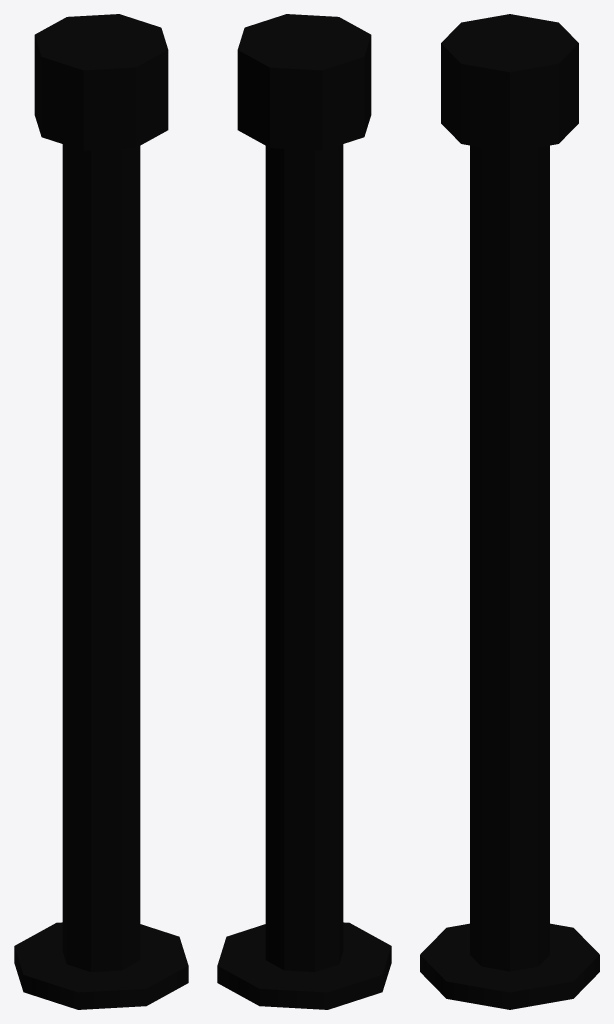
Rendered from Char_PG_Syringe_Piston.FBX.
The picture shows the model from 3 angles, left to right: view 1: azimuth 30°, elevation 25°; view 2: azimuth 150°, elevation 25°; view 3: azimuth 270°, elevation 25°; orthographic projection.
Visible parts, largest first — view 1: Cylinder008; view 2: Cylinder008; view 3: Cylinder008.
Boxes of the visible parts, x1,y1,x2,y2 form: Cylinder008: [14, 14, 188, 1009]; Cylinder008: [217, 14, 391, 1009]; Cylinder008: [420, 14, 599, 1009].
Bounding box in the file's own units: 25.19 × 144 × 25.19.
